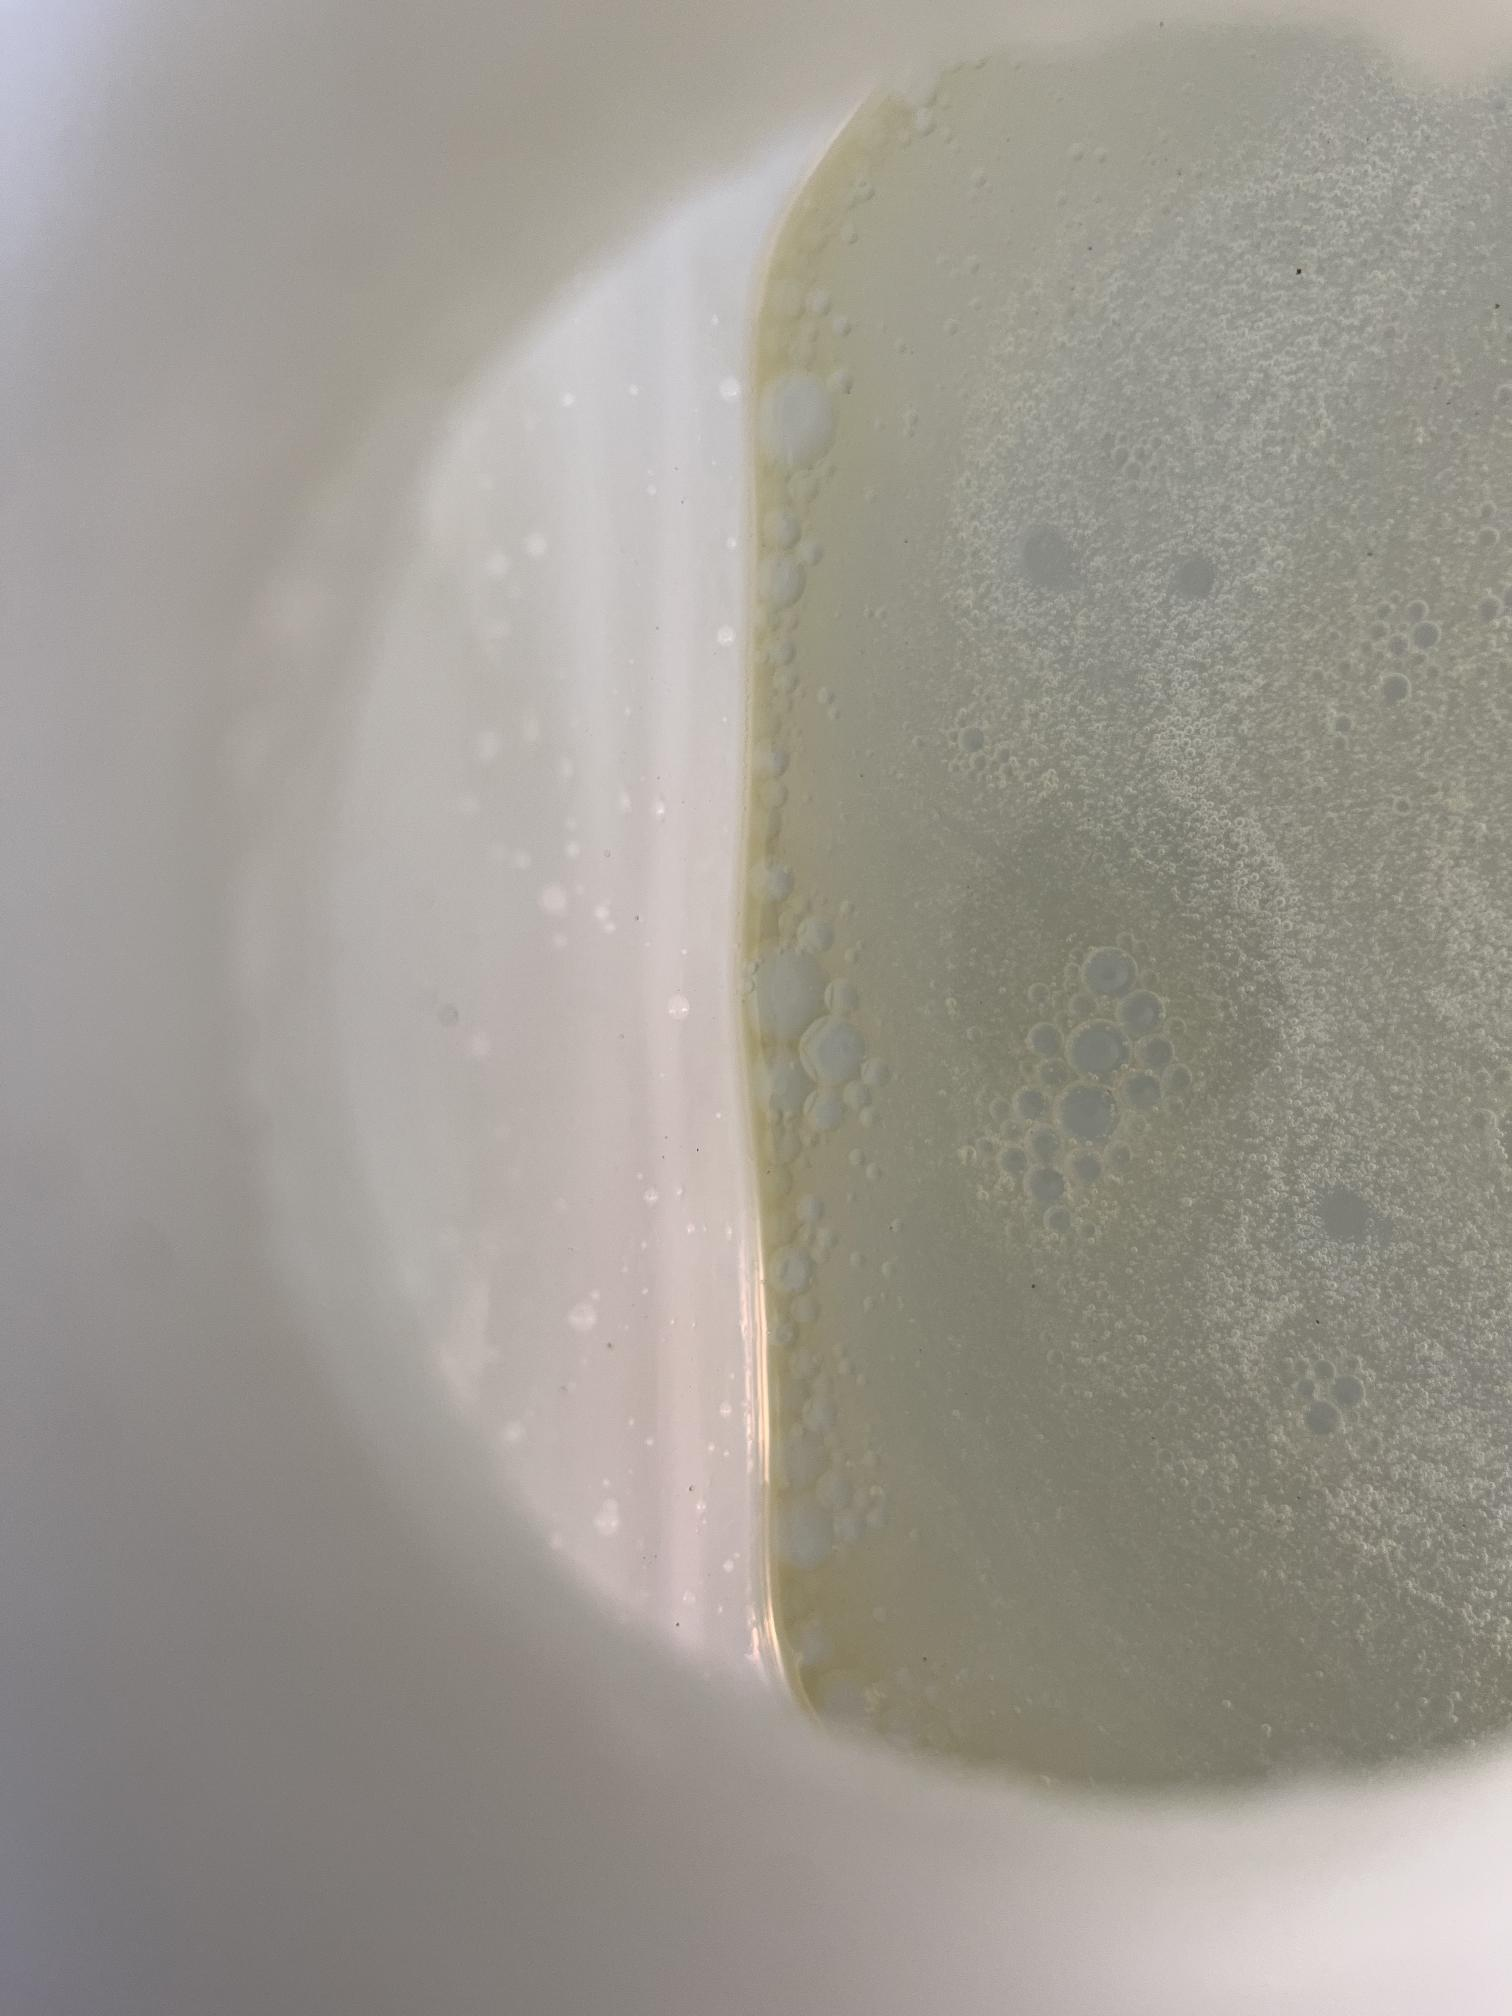Presenca de Oleo - - 110ml: (356, 100, 1436, 1900)
